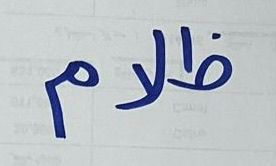lam: (112, 22, 166, 112)
meem: (34, 48, 105, 143)
zah: (168, 20, 240, 97)
